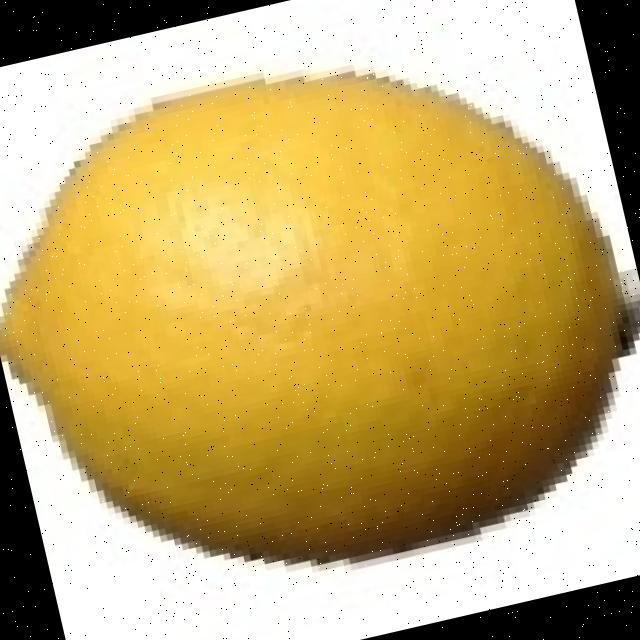lemon: (0, 73, 635, 562)
